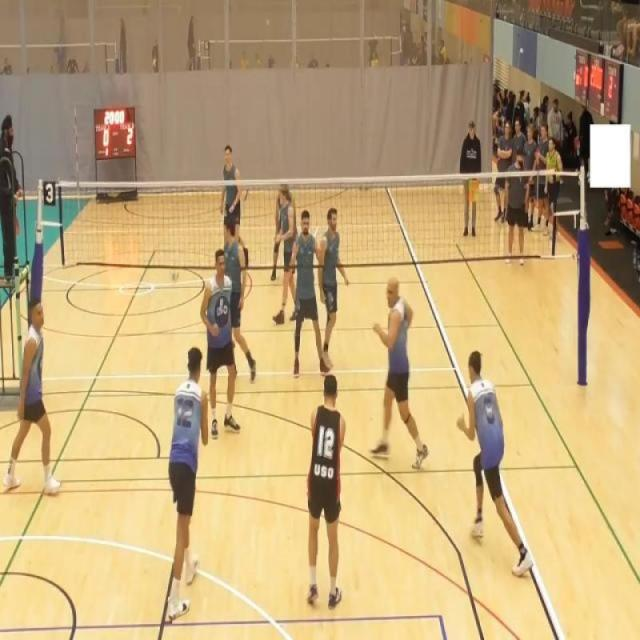volleyball: (169, 268, 180, 284), (265, 18, 270, 26)
